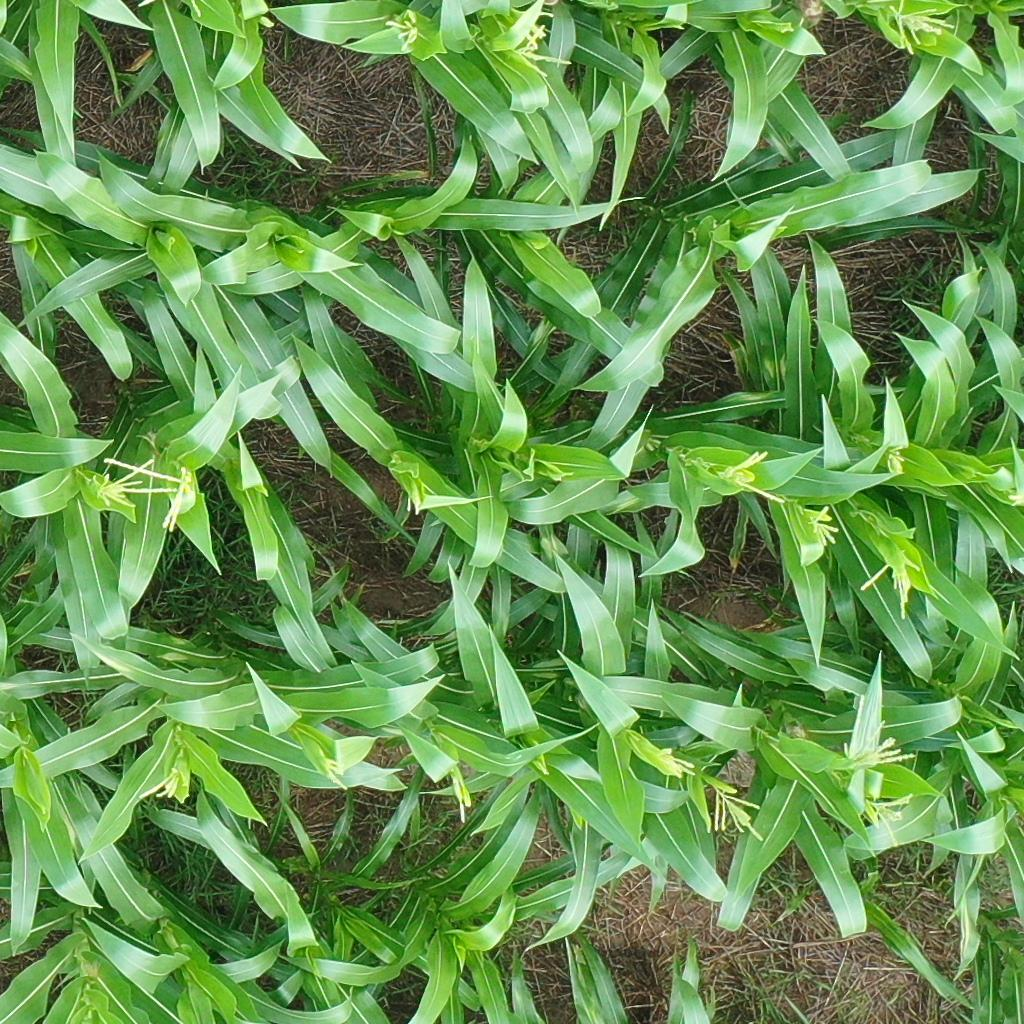Tassel: (106, 450, 199, 529), (502, 7, 572, 80), (78, 457, 178, 507), (712, 443, 784, 506), (839, 716, 918, 771), (859, 552, 922, 620), (887, 1, 959, 59), (708, 785, 771, 844), (862, 792, 915, 848), (134, 767, 188, 803), (384, 14, 424, 53), (655, 744, 698, 780), (808, 500, 838, 547), (320, 746, 351, 791), (886, 452, 906, 477)
